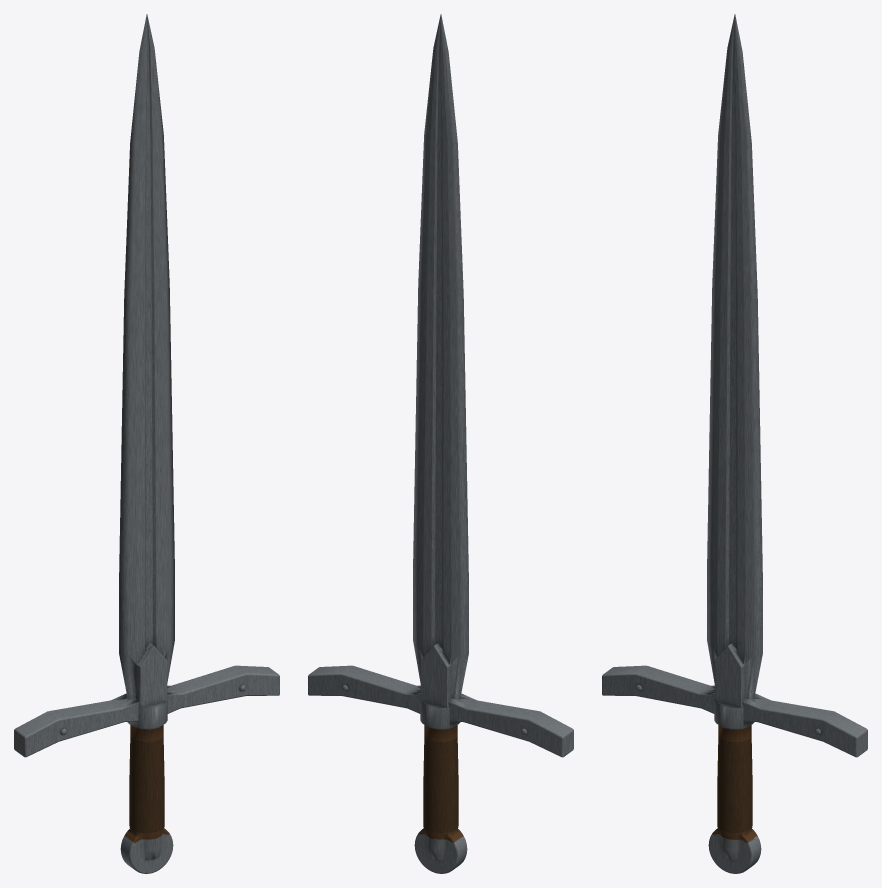
Rendered from longsword-plain.glb.
3 views of the same model, side by side, from view 1: azimuth 30°, elevation 25°; view 2: azimuth 150°, elevation 25°; view 3: azimuth 330°, elevation 25° (orthographic).
Visible parts, largest first — view 1: longsword-plain; view 2: longsword-plain; view 3: longsword-plain.
Part boxes in pixels (left/top/right/bottom): longsword-plain: left=14, top=14, right=279, bottom=873; longsword-plain: left=308, top=14, right=573, bottom=873; longsword-plain: left=602, top=14, right=867, bottom=873.
Bounding box in the file's own units: 0.3 × 0.96 × 0.042.
Materials: 1 (1 with a texture image).
